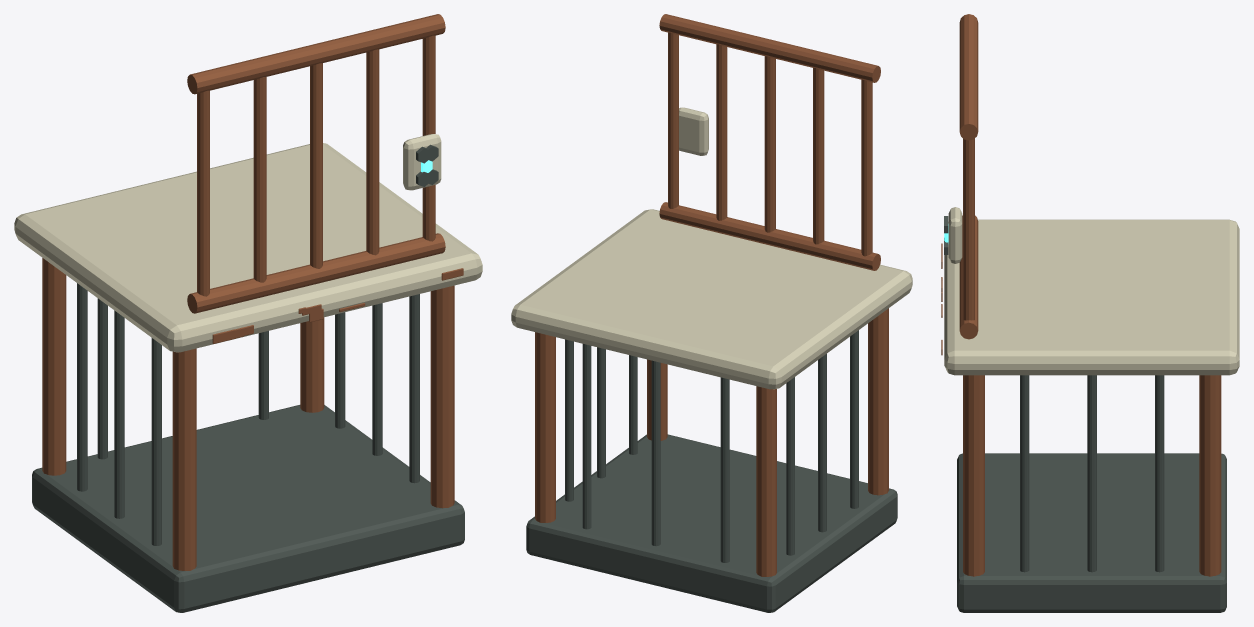
File: Rescue_Enclosure_Open.glb
3 renders of one model, left to right at view 1: azimuth 30°, elevation 25°; view 2: azimuth 150°, elevation 25°; view 3: azimuth 270°, elevation 25°, orthographic. The views are drawn at different scales.
Visible parts, largest first — view 1: Rescue base, Canopy, Door rail.001, Frame post, Frame post.002, Door rail, Frame post.001, Door bar.003, Door bar.001, Door bar, Door bar.002, Frame post.003 (+10 smaller); view 2: Canopy, Rescue base, Door rail.001, Frame post.001, Frame post.003, Door rail, Frame post, Door bar.002, Door bar, Door bar.001, Door bar.003, Door bar.004 (+11 smaller); view 3: Canopy, Rescue base, Frame post.003, Frame post.002, Door rail.001, Door bar.004, Side bar.003, Side bar.004, Side bar.005, Door rail, Door lock.
Part boxes in pixels (x1,y1,x2,y2): Rescue base: (32, 405, 464, 612); Canopy: (14, 143, 482, 352); Door rail.001: (187, 14, 445, 94); Frame post: (172, 348, 196, 570); Frame post.002: (430, 285, 454, 508); Door rail: (187, 233, 445, 313); Frame post.001: (42, 258, 66, 475); Door bar.003: (366, 49, 379, 255); Door bar.001: (253, 77, 266, 282); Door bar: (197, 90, 209, 296); Door bar.002: (310, 63, 322, 268); Frame post.003: (300, 317, 324, 412); Canopy: (511, 209, 912, 389); Rescue base: (526, 434, 897, 612); Door rail.001: (659, 14, 880, 82); Frame post.001: (756, 386, 776, 576); Frame post.003: (535, 332, 555, 522); Door rail: (659, 202, 880, 270); Frame post: (868, 308, 888, 495); Door bar.002: (764, 56, 775, 232); Door bar: (861, 79, 872, 256); Door bar.001: (813, 68, 824, 244); Door bar.003: (716, 44, 727, 220); Door bar.004: (668, 32, 678, 208); Canopy: (944, 219, 1239, 375); Rescue base: (957, 453, 1226, 612); Frame post.003: (1199, 375, 1221, 576); Frame post.002: (963, 375, 984, 576); Door rail.001: (959, 14, 978, 140); Door bar.004: (963, 138, 974, 320); Side bar.003: (1020, 375, 1029, 572); Side bar.004: (1087, 375, 1096, 572); Side bar.005: (1155, 375, 1164, 572); Door rail: (959, 215, 978, 339); Door lock: (948, 207, 962, 263).
Bounding box in the file's own units: 1.95 × 3.15 × 1.77.
